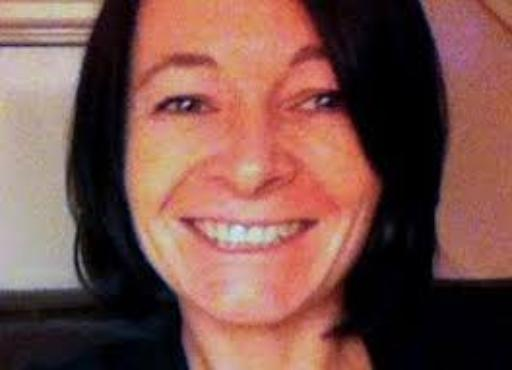left_eye: (293, 93, 353, 117)
left_lip_corner: (299, 214, 327, 231)
right_eye: (157, 95, 224, 119)
right_lip_corner: (175, 211, 209, 229)
